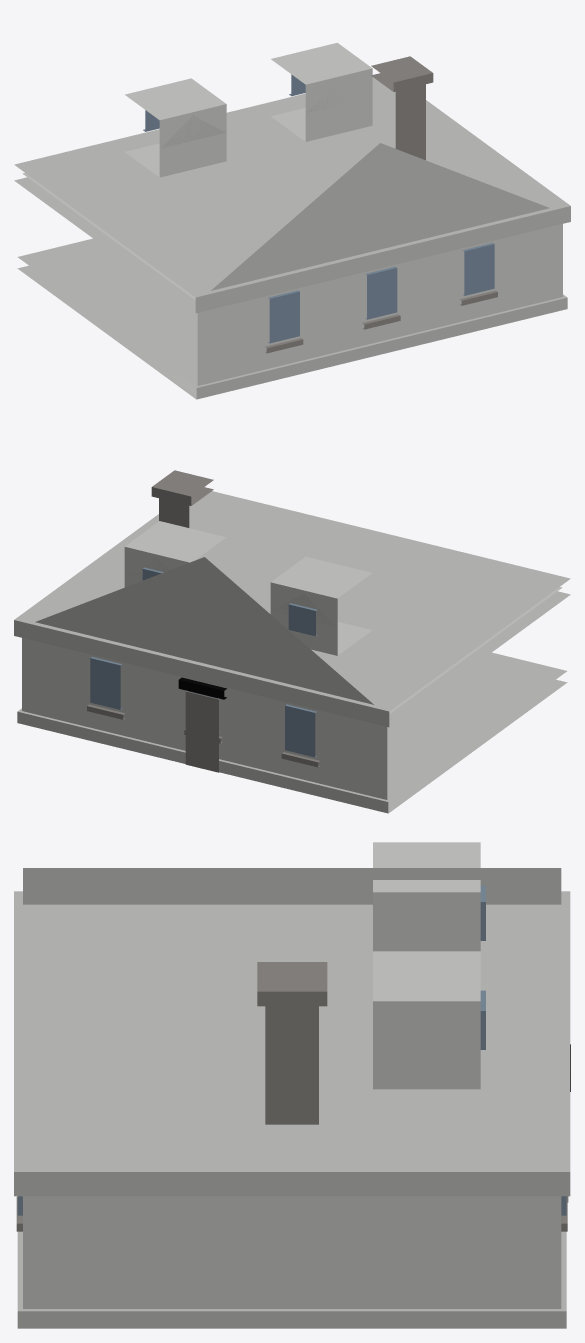
File: cape_cod.glb
3 views of the same model, one above another, from view 1: azimuth 30°, elevation 25°; view 2: azimuth 150°, elevation 25°; view 3: azimuth 270°, elevation 25° (orthographic). The views are drawn at different scales.
Parts seen in each view (by area): view 1: cape_cod; view 2: cape_cod; view 3: cape_cod.
Part boxes in pixels (x1,y1,x2,y2): cape_cod: [14, 42, 570, 399]; cape_cod: [14, 470, 570, 813]; cape_cod: [14, 842, 570, 1328].
Size of the model in its own units: 12.34 by 6.6 by 10.35.
